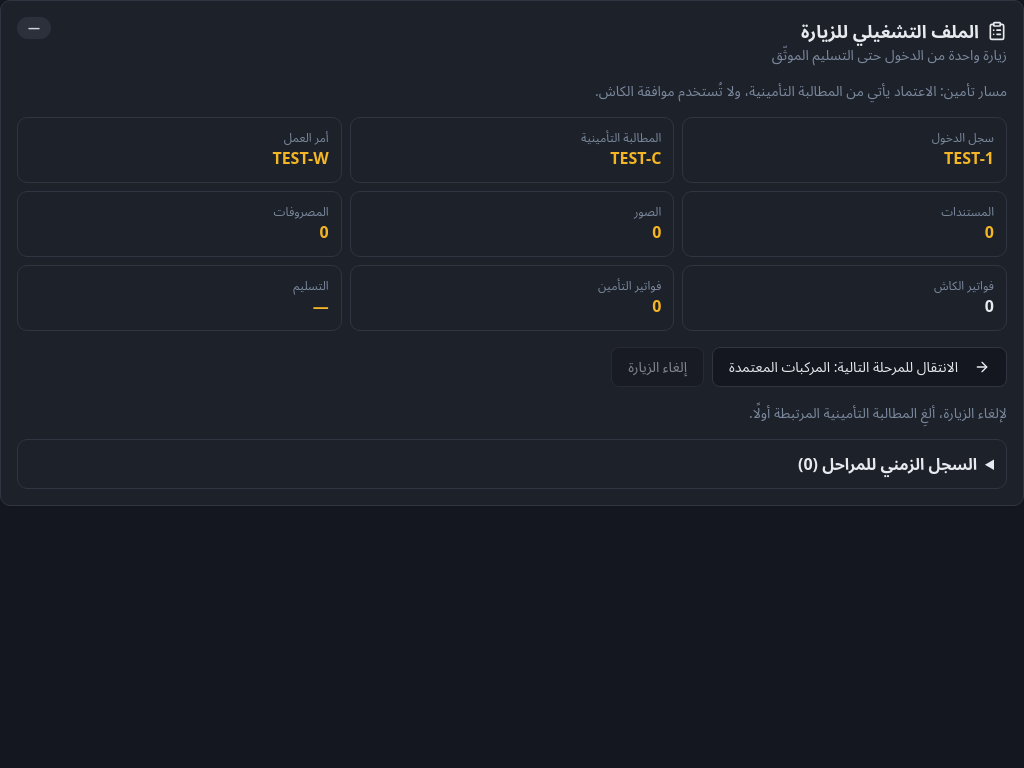
Test: vehicle visit transition panel › opens a recorded transition and confirms the cloud read-back before updating the stage
This screenshot has width=1024, height=768.
Click the button "الانتقال للمرحلة التالية: المركبات المعتمدة".
click(860, 367)  # box [712,347,1007,387]
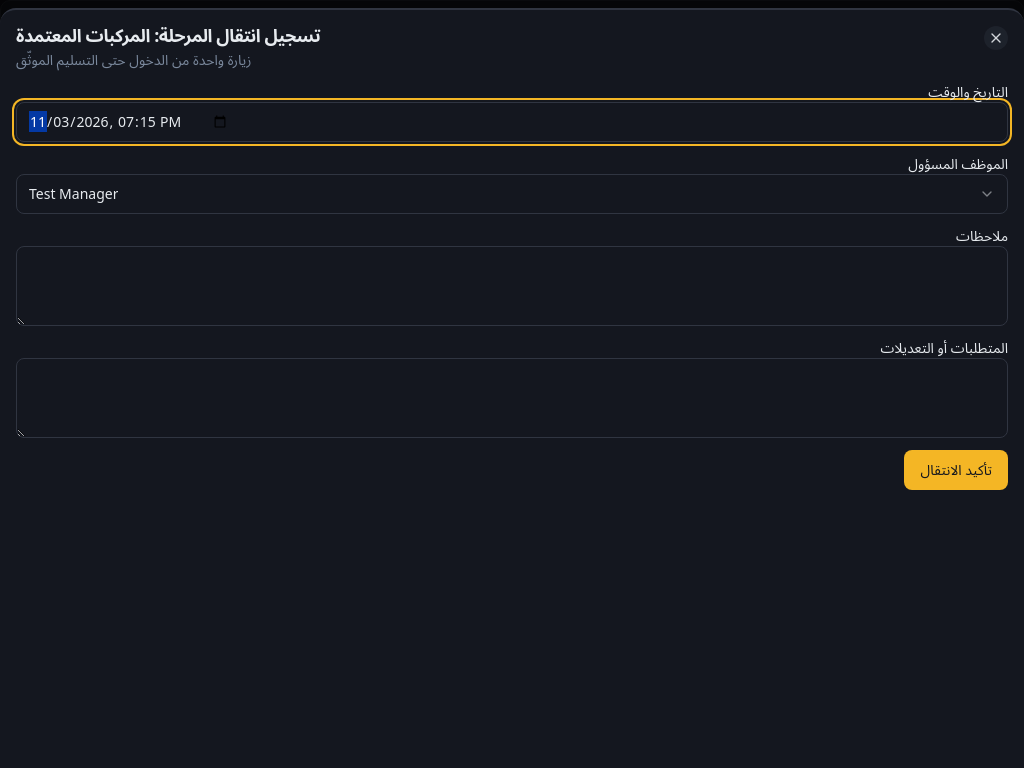
Expected: the dialog is shown
Type "موافقة التأمين مؤكدة" into the text box labelled "ملاحظات".
click(512, 286); type("موافقة التأمين مؤكدة")  # box [16,246,1008,326]
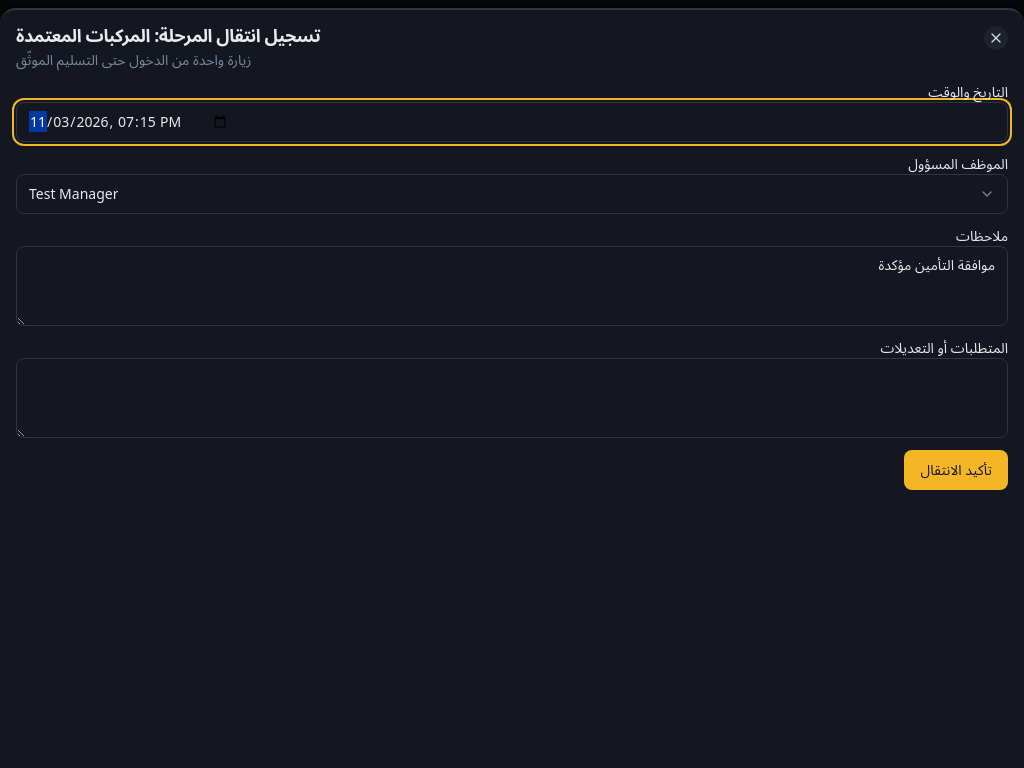
Click the button "تأكيد الانتقال".
click(956, 470)  # box [904,450,1008,490]
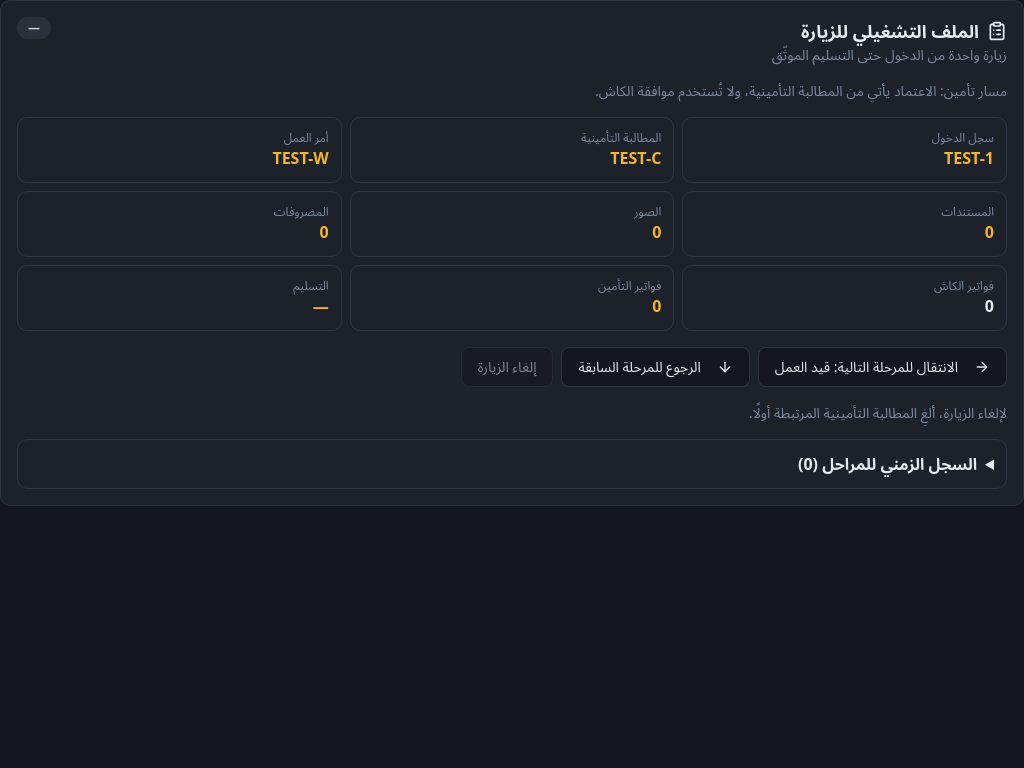
Expected: the dialog is gone
